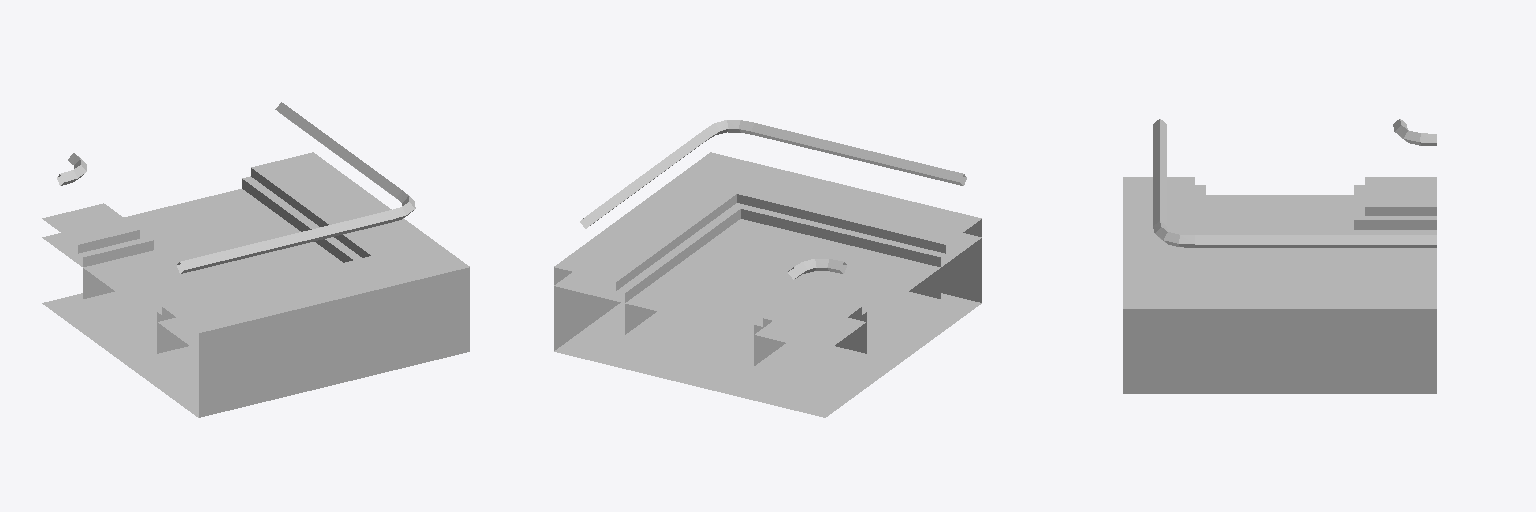
Rendered from LPiece.obj.
3 views of the same model, side by side, from view 1: azimuth 30°, elevation 25°; view 2: azimuth 150°, elevation 25°; view 3: azimuth 270°, elevation 25° (orthographic).
Visible parts, largest first — view 1: LPiece_geo; view 2: LPiece_geo; view 3: LPiece_geo.
Boxes of the visible parts, x1,y1,x2,y2 form: LPiece_geo: [42, 102, 469, 417]; LPiece_geo: [554, 120, 981, 417]; LPiece_geo: [1123, 119, 1436, 393].
Size of the model in its own units: 171 by 85.93 by 171.